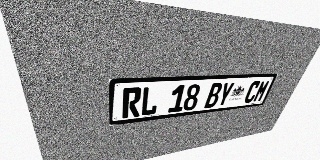1: (168, 85, 188, 113)
8: (182, 84, 202, 111)
B: (204, 83, 223, 108)
C: (243, 81, 262, 103)
L: (140, 86, 160, 116)
M: (252, 80, 271, 102)
R: (122, 87, 142, 118)
Y: (216, 82, 235, 107)
